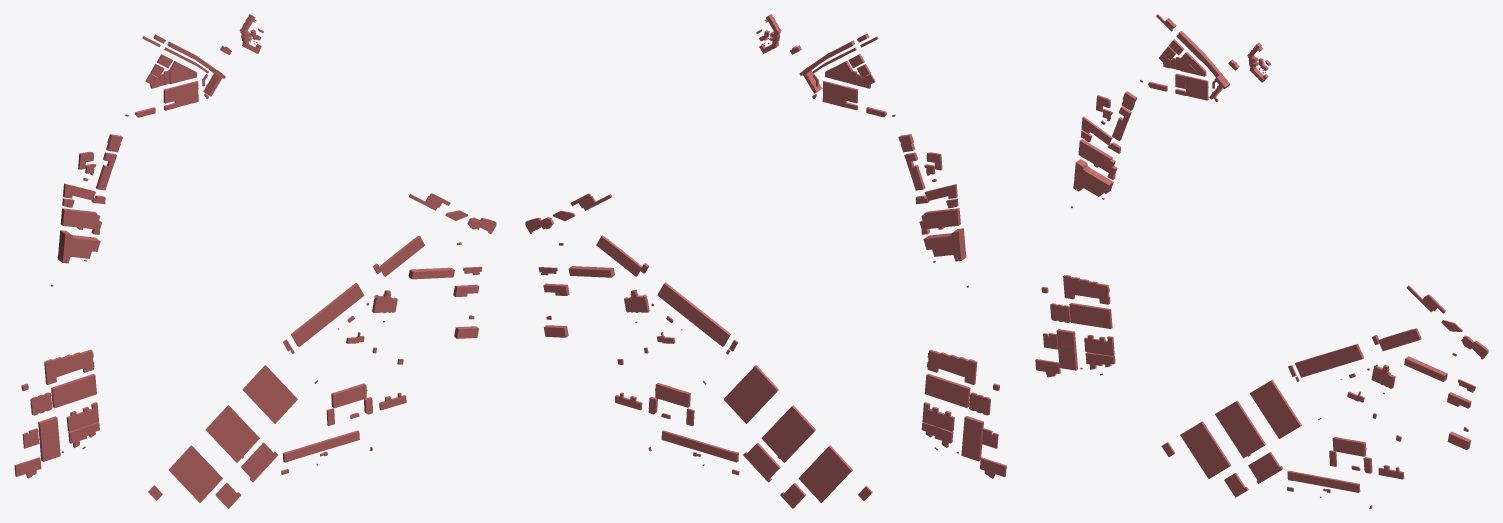
The model's file is red_buildings_lod12.obj.
3 views of the same model, side by side, from view 1: azimuth 30°, elevation 25°; view 2: azimuth 150°, elevation 25°; view 3: azimuth 330°, elevation 25° (orthographic). The views are drawn at different scales.
Visible parts, largest first — view 1: BAG_0599100010074628, BAG_0599100010032492, BAG_0599100010058148, BAG_0599100000018261, BAG_0606100000001911, BAG_0606100000002555, BAG_0606100000012577, BAG_0606100000000348, BAG_0599100000641267, BAG_0599100010034250, BAG_0599100000142086, BAG_0599100000330775; view 2: BAG_0599100010074628, BAG_0599100010058148, BAG_0599100010032492, BAG_0599100000018261, BAG_0606100000001911, BAG_0606100000002555, BAG_0606100000012577, BAG_0606100000000348, BAG_0599100000641267, BAG_0599100010034250, BAG_0599100000142086, BAG_0599100000330775; view 3: BAG_0599100010074628, BAG_0599100010058148, BAG_0599100010032492, BAG_0599100000018261, BAG_0606100000001911, BAG_0606100000012577, BAG_0606100000002555, BAG_0606100000000348, BAG_0599100000641267, BAG_0599100010034250, BAG_0599100000142086, BAG_0599100000330775.
Part boxes in pixels (x1,y1,x2,y2): BAG_0599100010074628: (242, 365, 297, 423); BAG_0599100010032492: (168, 445, 222, 502); BAG_0599100010058148: (205, 405, 259, 462); BAG_0599100000018261: (291, 283, 364, 346); BAG_0606100000001911: (44, 349, 94, 384); BAG_0606100000002555: (51, 374, 96, 408); BAG_0606100000012577: (57, 230, 100, 263); BAG_0606100000000348: (60, 208, 101, 234); BAG_0599100000641267: (290, 430, 359, 460); BAG_0599100010034250: (241, 442, 277, 482); BAG_0599100000142086: (379, 235, 425, 276); BAG_0599100000330775: (331, 383, 367, 408); BAG_0599100010074628: (723, 365, 778, 423); BAG_0599100010058148: (761, 405, 815, 462); BAG_0599100010032492: (798, 445, 852, 502); BAG_0599100000018261: (657, 282, 730, 346); BAG_0606100000001911: (927, 349, 977, 384); BAG_0606100000002555: (924, 373, 970, 407); BAG_0606100000012577: (923, 228, 966, 261); BAG_0606100000000348: (919, 208, 960, 234); BAG_0599100000641267: (661, 430, 731, 460); BAG_0599100010034250: (743, 442, 780, 482); BAG_0599100000142086: (596, 235, 641, 276); BAG_0599100000330775: (655, 383, 690, 407); BAG_0599100010074628: (1249, 379, 1301, 438); BAG_0599100010058148: (1215, 400, 1265, 458); BAG_0599100010032492: (1180, 421, 1231, 478); BAG_0599100000018261: (1295, 344, 1363, 377); BAG_0606100000001911: (1063, 275, 1110, 304); BAG_0606100000012577: (1073, 159, 1113, 196); BAG_0606100000002555: (1069, 303, 1112, 328); BAG_0606100000000348: (1078, 139, 1117, 179); BAG_0599100000641267: (1294, 472, 1360, 492); BAG_0599100010034250: (1248, 452, 1283, 483); BAG_0599100000142086: (1378, 328, 1421, 351); BAG_0599100000330775: (1332, 437, 1366, 456).
Bounding box in the file's own units: 1489 × 1459 × 33.26.
